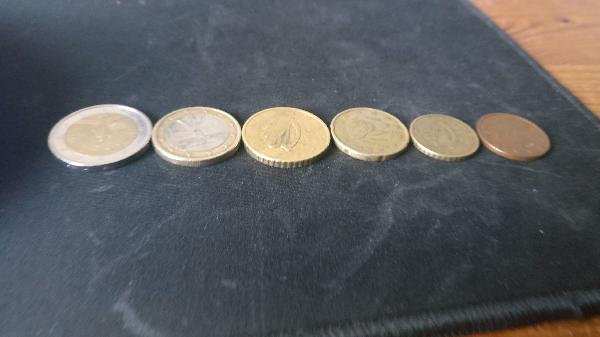Fifty Cent: (244, 108, 332, 169)
Five Cent: (475, 111, 553, 166)
One Euro: (154, 104, 243, 169)
Ten Cent: (409, 111, 482, 161)
Twenty Cent: (332, 105, 407, 161)
Two Euro: (46, 102, 152, 175)
